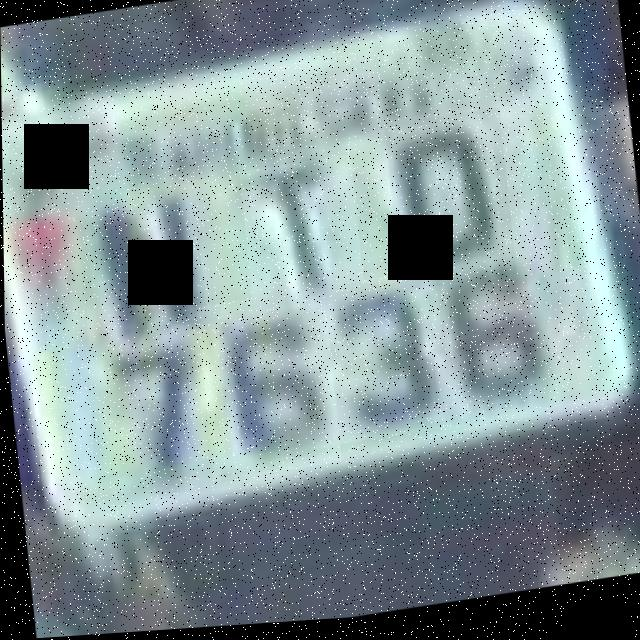3: (298, 275, 449, 454)
6: (195, 291, 340, 484), (425, 255, 561, 436)
7: (81, 319, 217, 501)
N: (87, 175, 215, 344)
O: (383, 113, 515, 297)
T: (238, 158, 363, 302)
